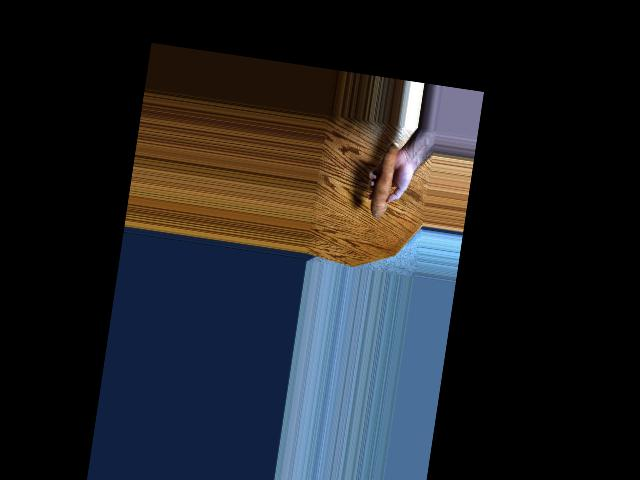sweet_potato: (363, 142, 397, 222)
